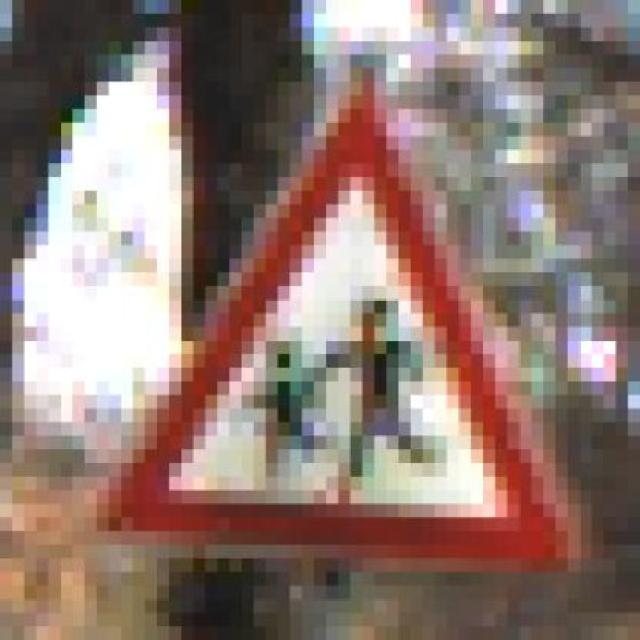Beware of children: (85, 54, 592, 586)
